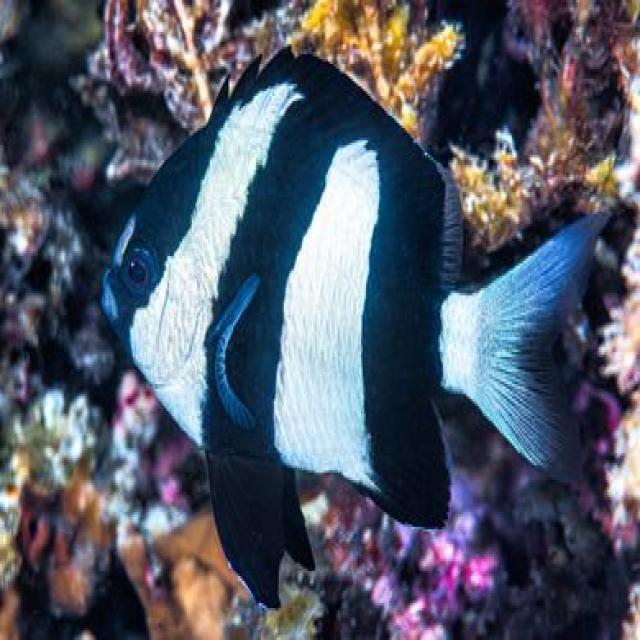ThreeStripedDamselfish: (98, 47, 632, 613)
